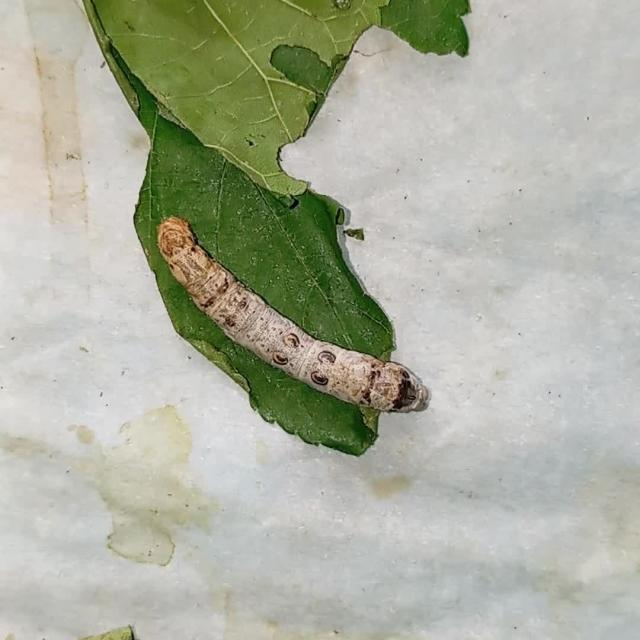Grasserie: (149, 208, 442, 420)
